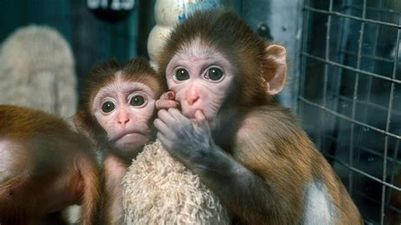monkey: (145, 8, 375, 218), (70, 48, 179, 212)
